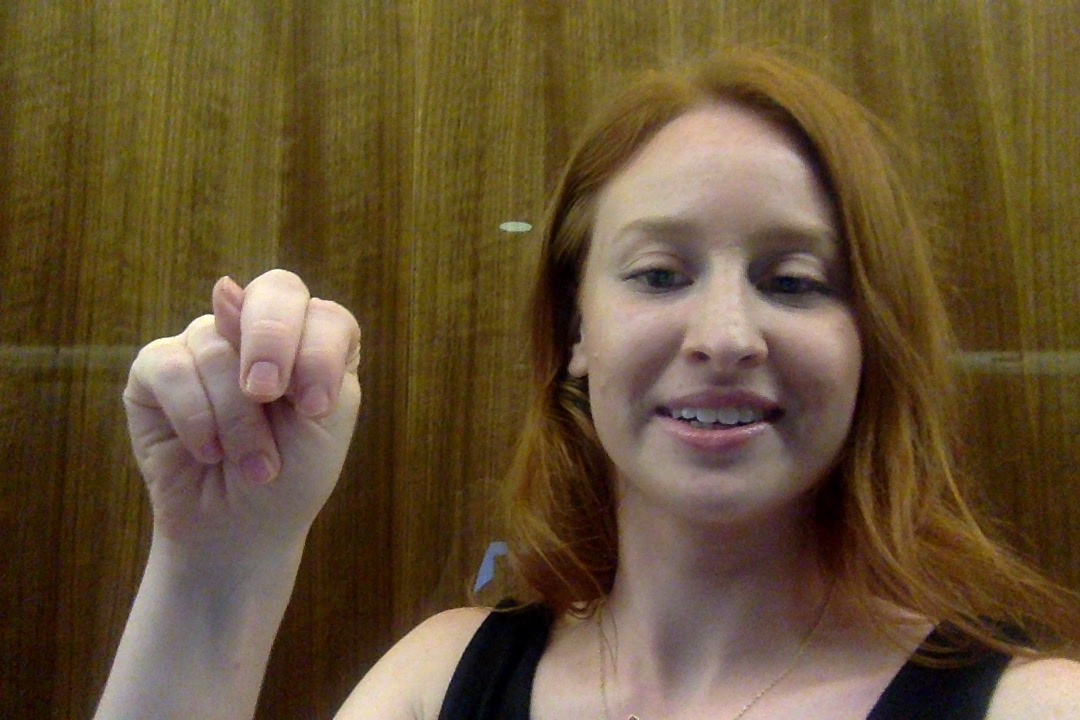n: (116, 263, 371, 549)
